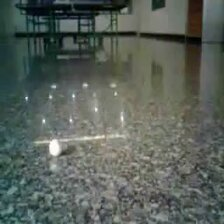w: (46, 137, 65, 157)
